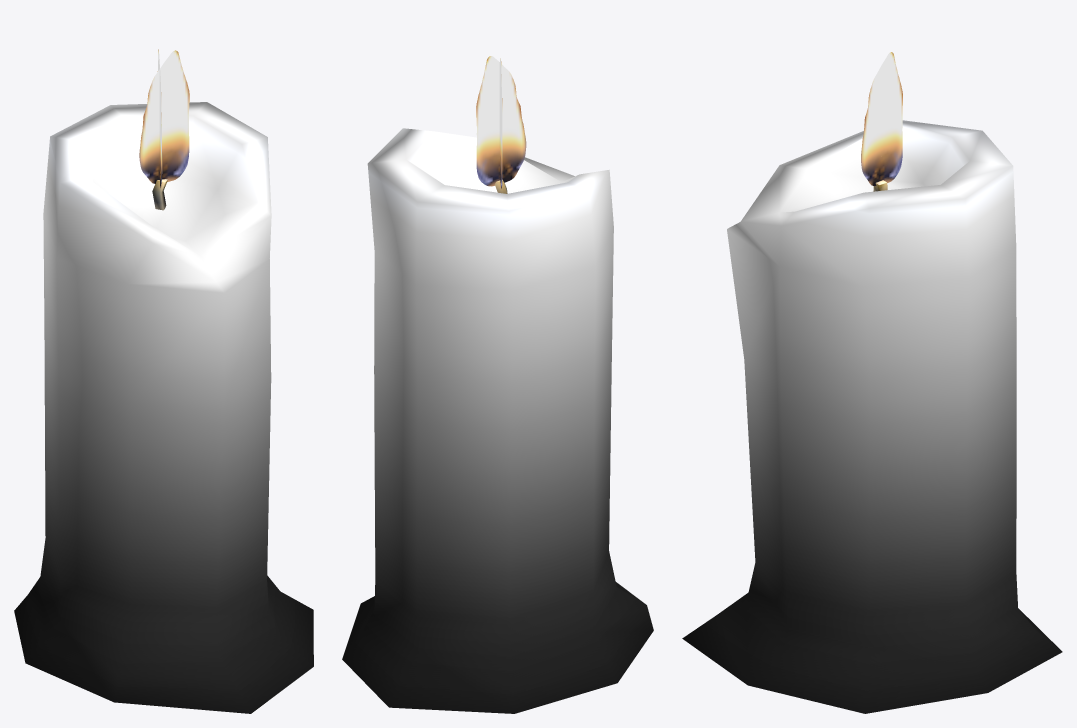
The model's file is CandleShapeB.007.glb.
3 views of the same model, side by side, from view 1: azimuth 30°, elevation 25°; view 2: azimuth 150°, elevation 25°; view 3: azimuth 270°, elevation 25° (orthographic).
Visible parts, largest first — view 1: CandleShapeB.007; view 2: CandleShapeB.007; view 3: CandleShapeB.007.
Part boxes in pixels (bbox=[...]): CandleShapeB.007: bbox=[14, 49, 313, 713]; CandleShapeB.007: bbox=[342, 56, 653, 713]; CandleShapeB.007: bbox=[682, 52, 1062, 713].
Bounding box in the file's own units: 0.0966 × 0.2031 × 0.117.
Materials: 2 (2 with a texture image).
